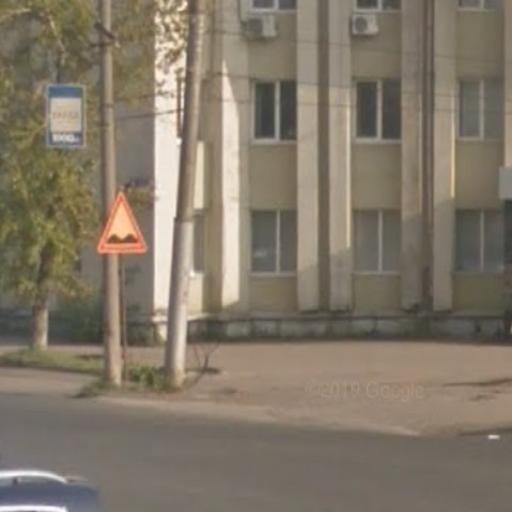traffic_sign: (96, 188, 153, 260)
